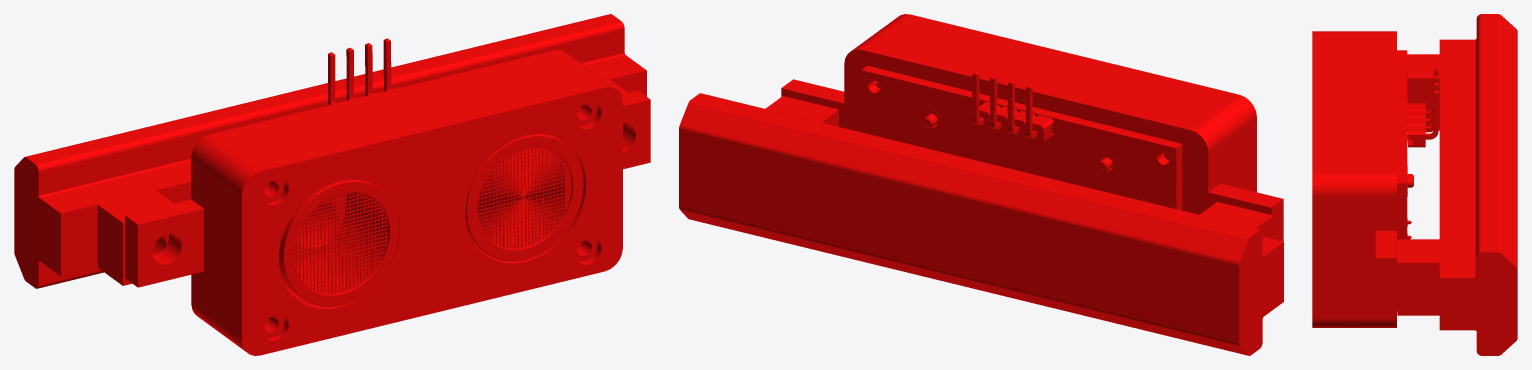
File: sonar5.dae
3 views of the same model, side by side, from view 1: azimuth 30°, elevation 25°; view 2: azimuth 150°, elevation 25°; view 3: azimuth 270°, elevation 25° (orthographic). The views are drawn at different scales.
Parts seen in each view (by area): view 1: Body1 (×4), Platine.step.STEP.STEP, HC_SR04_gitter_001.step.STEP.STEP; view 2: Body1 (×3), Platine.step.STEP.STEP; view 3: Body1 (×3), Platine.step.STEP.STEP.
Part boxes in pixels (x1=…): Body1 (×4): x1=14, y1=14, x2=650, y2=355; Platine.step.STEP.STEP: x1=279, y1=134, x2=583, y2=306; HC_SR04_gitter_001.step.STEP.STEP: x1=477, y1=147, x2=571, y2=248; Body1 (×3): x1=679, y1=14, x2=1283, y2=355; Platine.step.STEP.STEP: x1=861, y1=65, x2=1182, y2=210; Body1 (×3): x1=1312, y1=14, x2=1517, y2=355; Platine.step.STEP.STEP: x1=1397, y1=50, x2=1413, y2=310.
Bounding box in the file's own units: 0.08 × 0.0291 × 0.0278.
